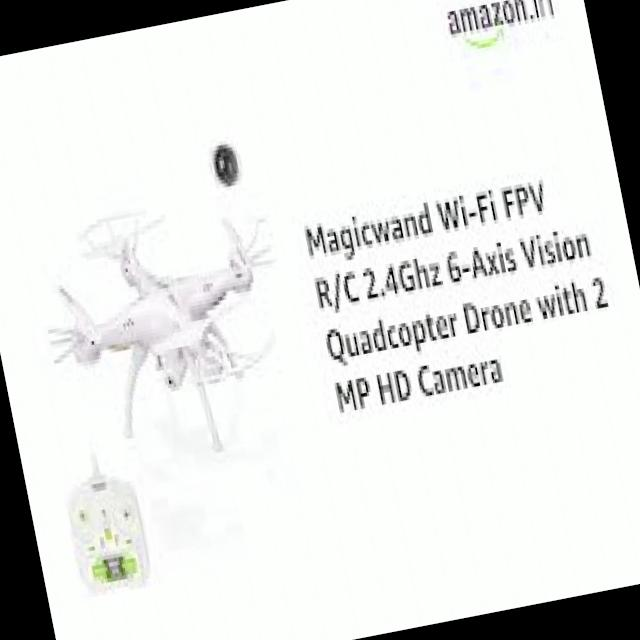drone: (17, 157, 314, 503)
